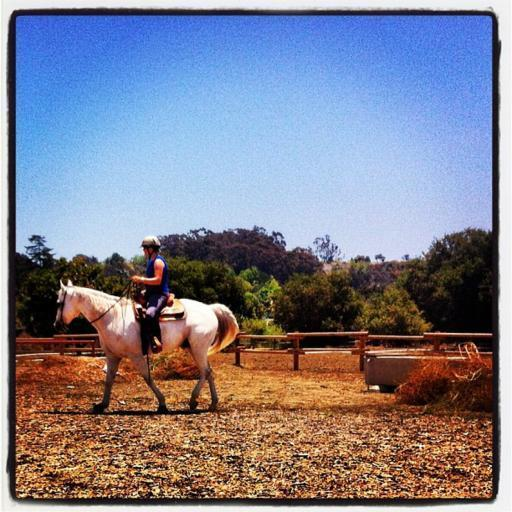horse: (51, 278, 241, 414)
